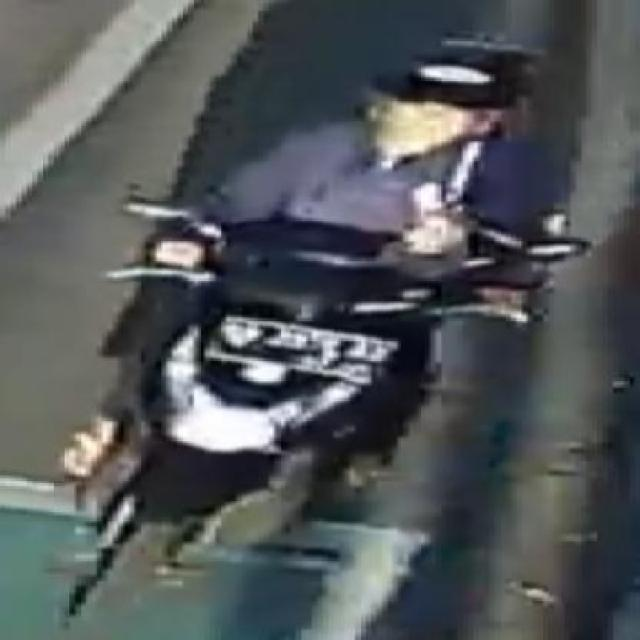helmet: (353, 40, 529, 167)
motorcycle: (38, 27, 597, 636)
